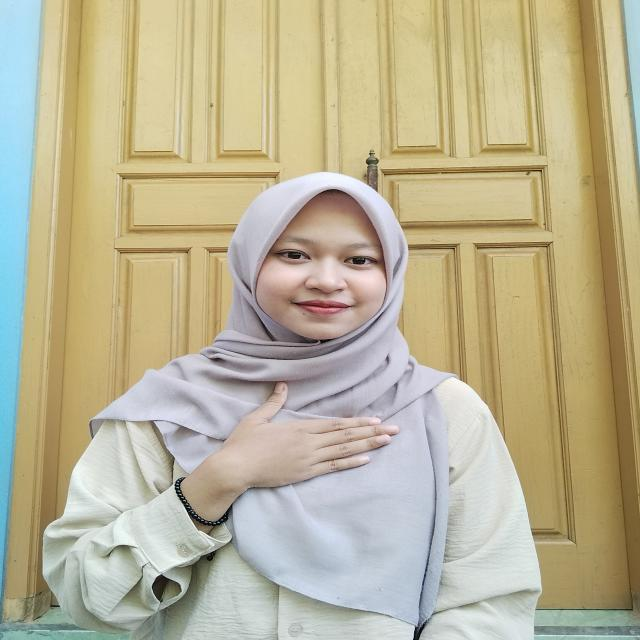tolong: (179, 379, 421, 511)
